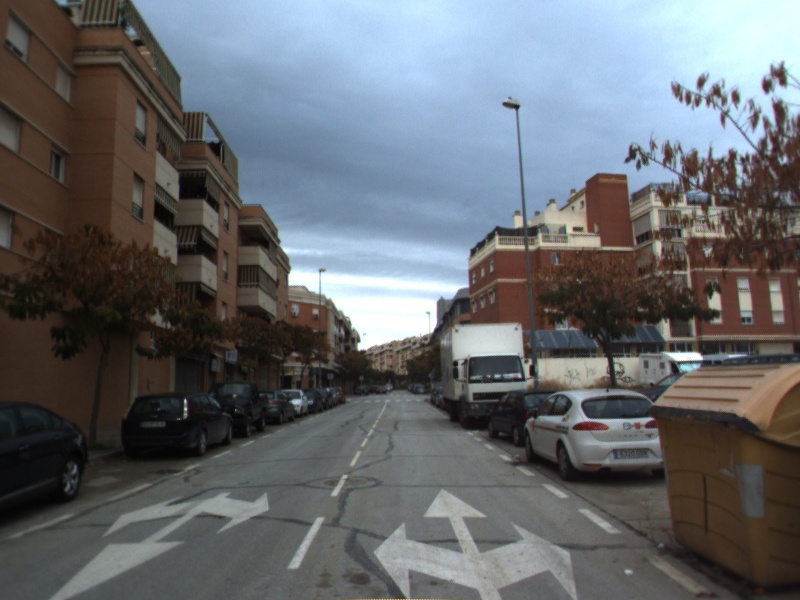STRAIGHT_LEFT_RIGHT: (371, 484, 579, 600)
